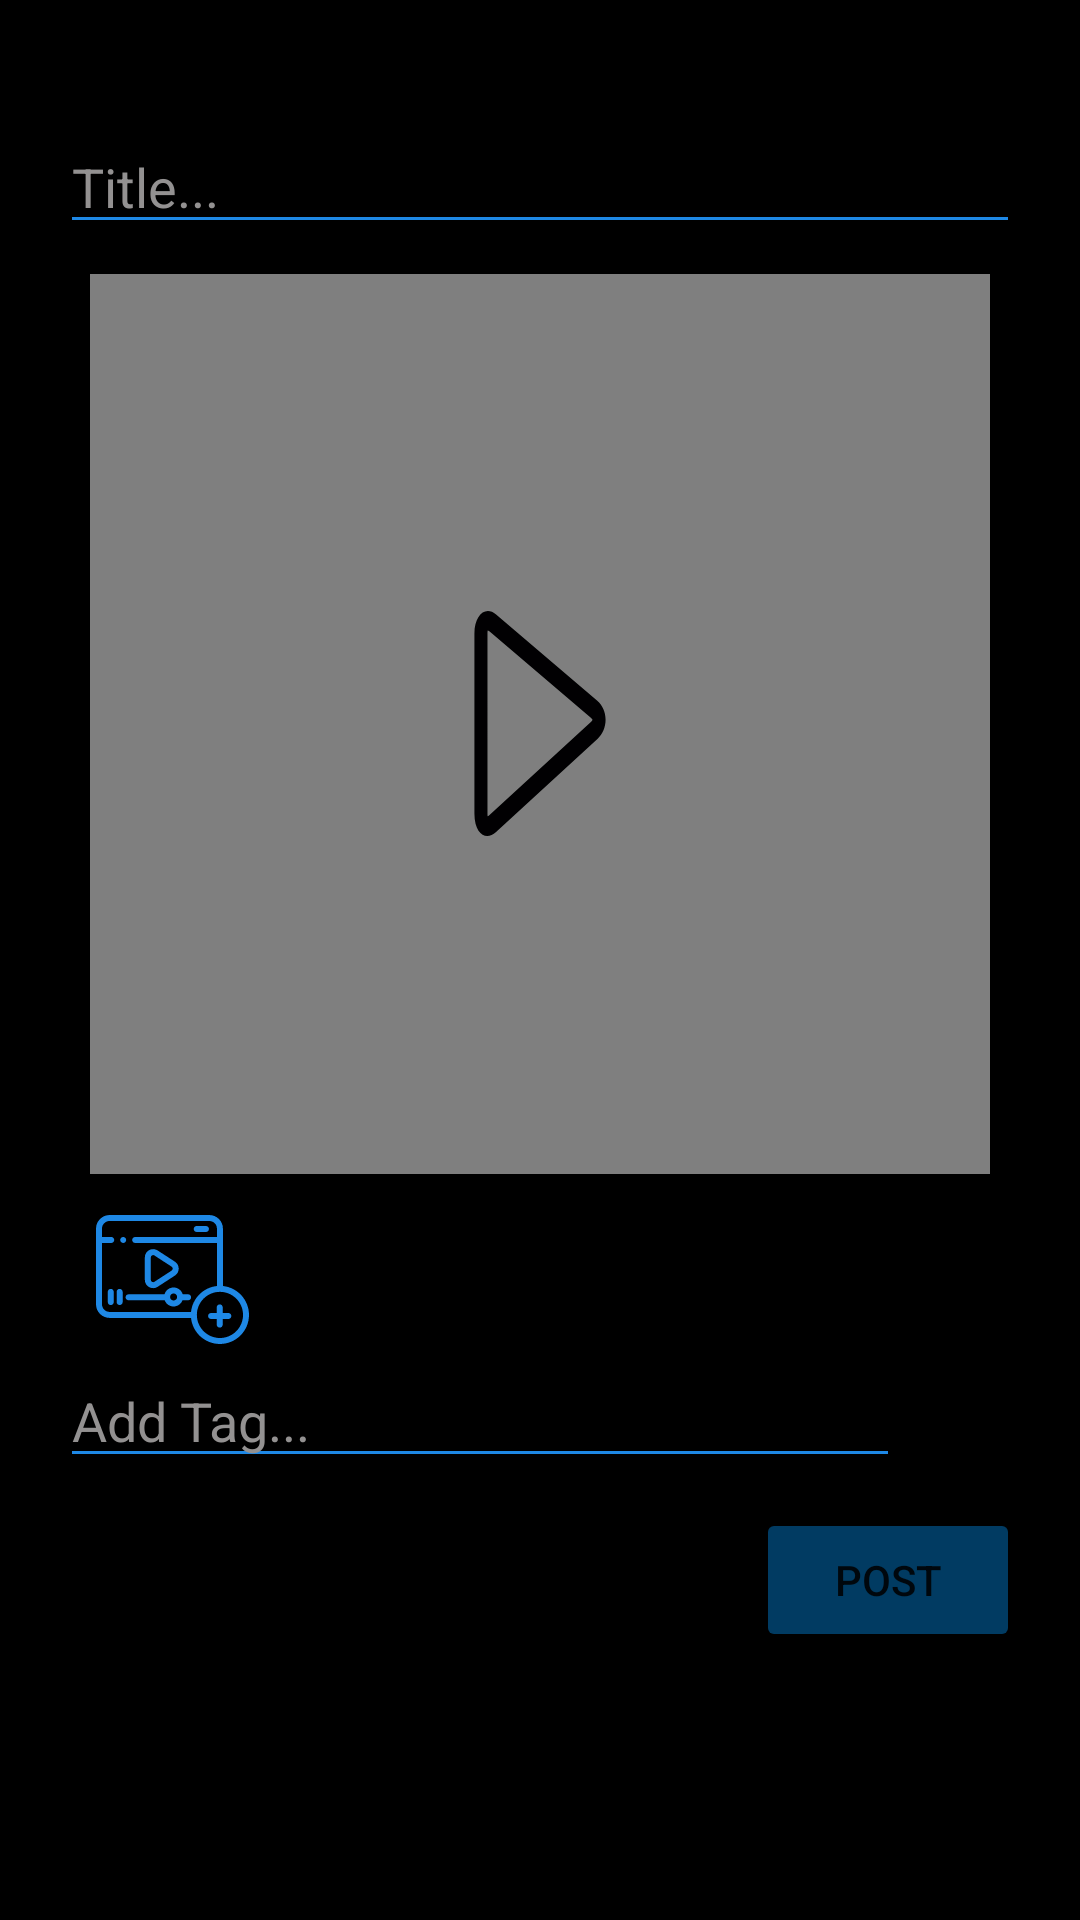

Screen size 1080*1920. Icon name, then its box in pixels as (x1, y1, x2, y2):
add video: (96, 1215, 249, 1344)
play: (474, 611, 606, 836)
